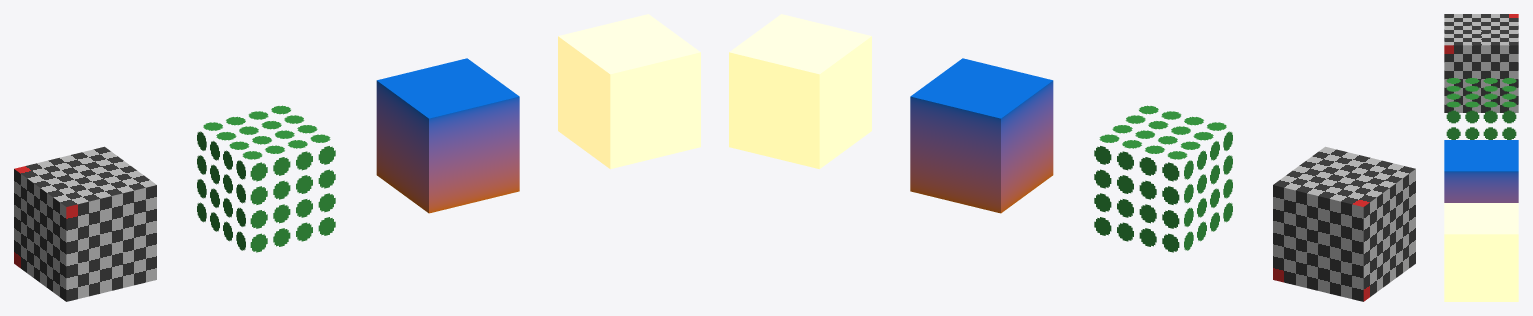
File: profiles.glb
3 views of the same model, side by side, from view 1: azimuth 30°, elevation 25°; view 2: azimuth 150°, elevation 25°; view 3: azimuth 270°, elevation 25° (orthographic). The views are drawn at different scales.
Parts seen in each view (by area): view 1: block_vertex_colour, block_opaque, block_emissive, block_cutout; view 2: block_vertex_colour, block_opaque, block_emissive, block_cutout; view 3: block_emissive, block_opaque, block_vertex_colour, block_cutout.
Part boxes in pixels (bbox=[...]): block_vertex_colour: bbox=[376, 58, 519, 213]; block_opaque: bbox=[14, 146, 156, 301]; block_emissive: bbox=[558, 14, 700, 169]; block_cutout: bbox=[197, 105, 335, 252]; block_vertex_colour: bbox=[910, 58, 1053, 213]; block_opaque: bbox=[1273, 146, 1415, 301]; block_emissive: bbox=[729, 14, 871, 169]; block_cutout: bbox=[1094, 105, 1232, 252]; block_emissive: bbox=[1444, 203, 1518, 301]; block_opaque: bbox=[1444, 14, 1518, 112]; block_vertex_colour: bbox=[1444, 140, 1518, 202]; block_cutout: bbox=[1446, 78, 1516, 139].
Bounding box in the file's own units: 10.5 × 1.5 × 1.5.
Materials: 4 (2 with a texture image).
